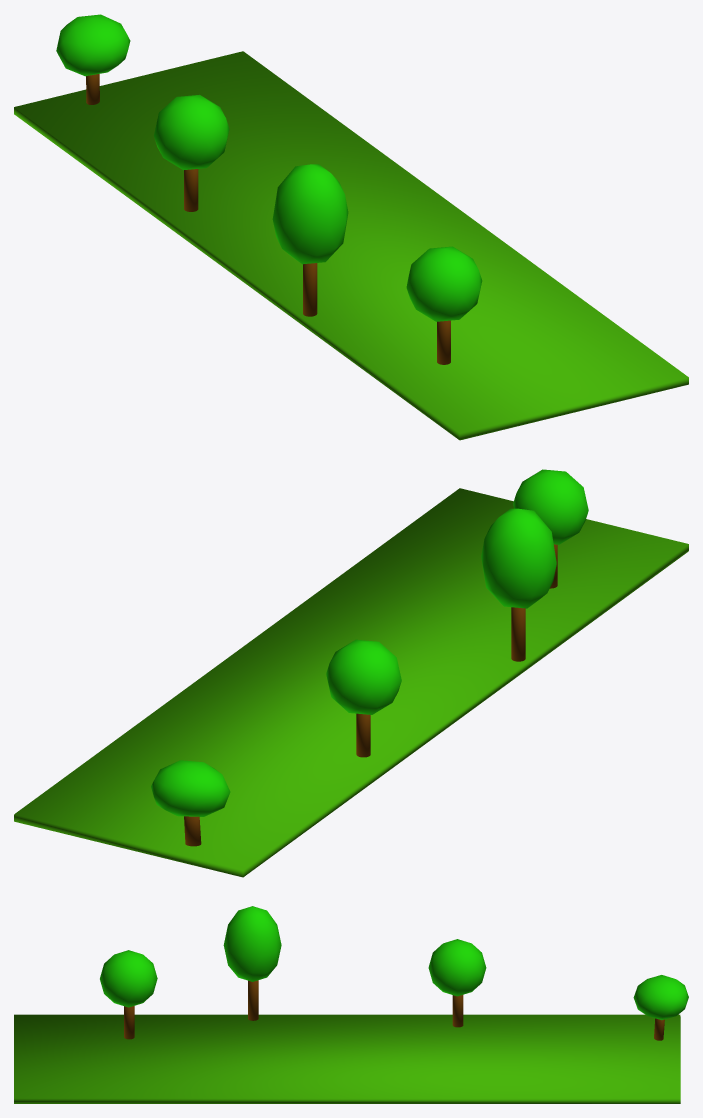
The model's file is MapMinecraft.fbx.
3 views of the same model, one above another, from view 1: azimuth 30°, elevation 25°; view 2: azimuth 150°, elevation 25°; view 3: azimuth 270°, elevation 25° (orthographic). The views are drawn at different scales.
Visible parts, largest first — view 1: Cube; view 2: Cube; view 3: Cube.
Part boxes in pixels (box(x1,y1,x2,y2)): Cube: box(14, 14, 688, 440); Cube: box(14, 469, 688, 877); Cube: box(14, 906, 688, 1103).
Bounding box in the file's own units: 11.92 × 7.12 × 37.17.
